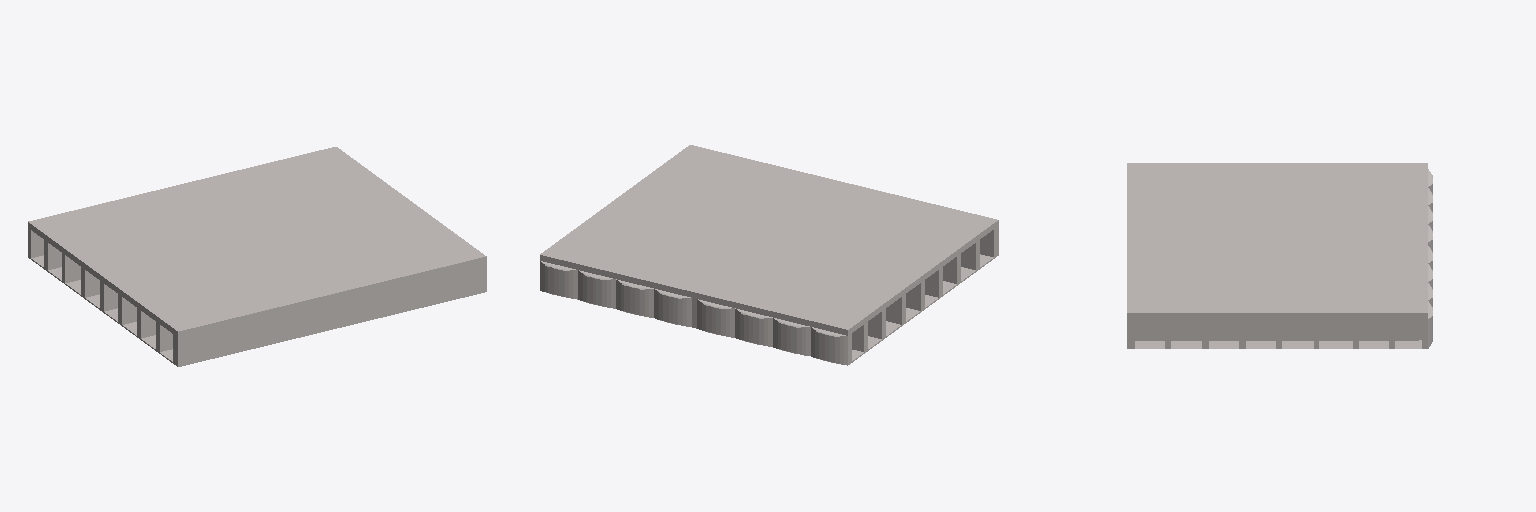
File: ll1Real.obj
3 renders of one model, left to right at view 1: azimuth 30°, elevation 25°; view 2: azimuth 150°, elevation 25°; view 3: azimuth 270°, elevation 25°, orthographic.
Parts seen in each view (by area): view 1: Cube; view 2: Cube; view 3: Cube.
Boxes of the visible parts, x1,y1,x2,y2 form: Cube: [28, 147, 486, 366]; Cube: [540, 145, 998, 365]; Cube: [1127, 163, 1432, 348].
Size of the model in its own units: 12.93 by 1.43 by 11.09.